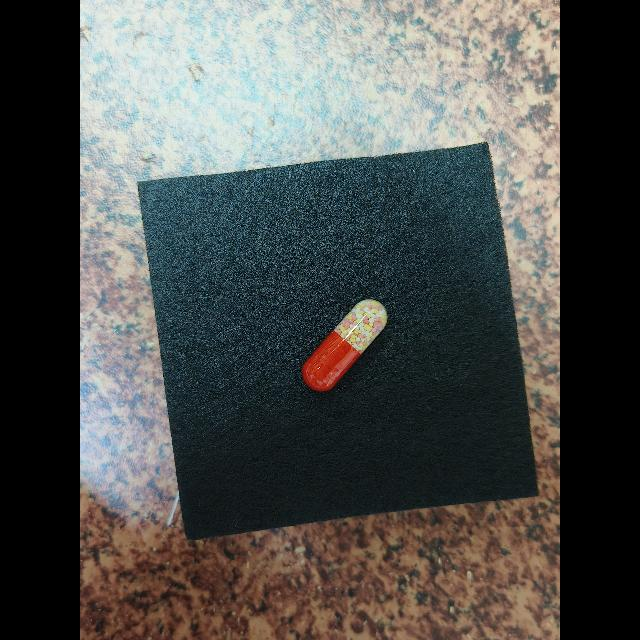Intact Capsule: (302, 299, 388, 391)
